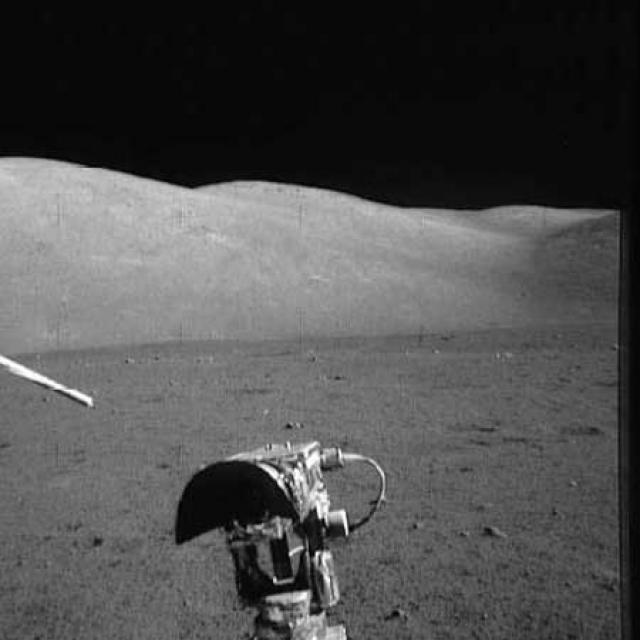artifact: (171, 433, 394, 640), (0, 344, 103, 420)
crater: (548, 417, 610, 441)
rock: (475, 518, 514, 546), (270, 418, 306, 432)
